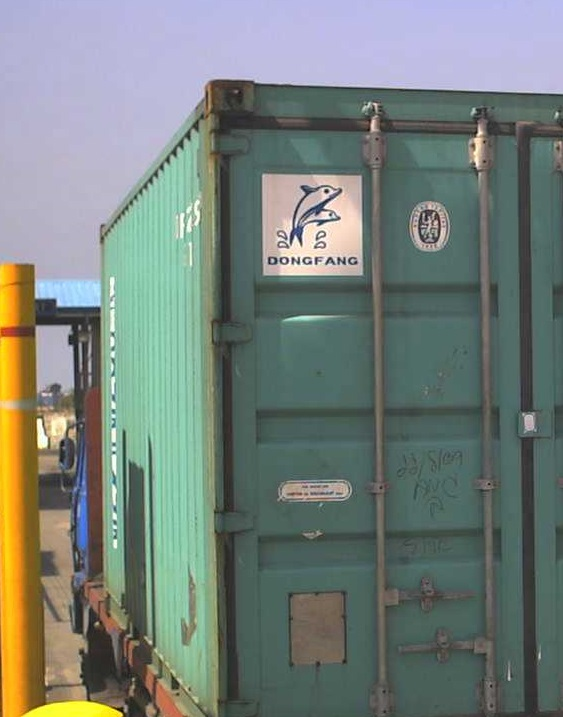container_door: (205, 76, 557, 713)
